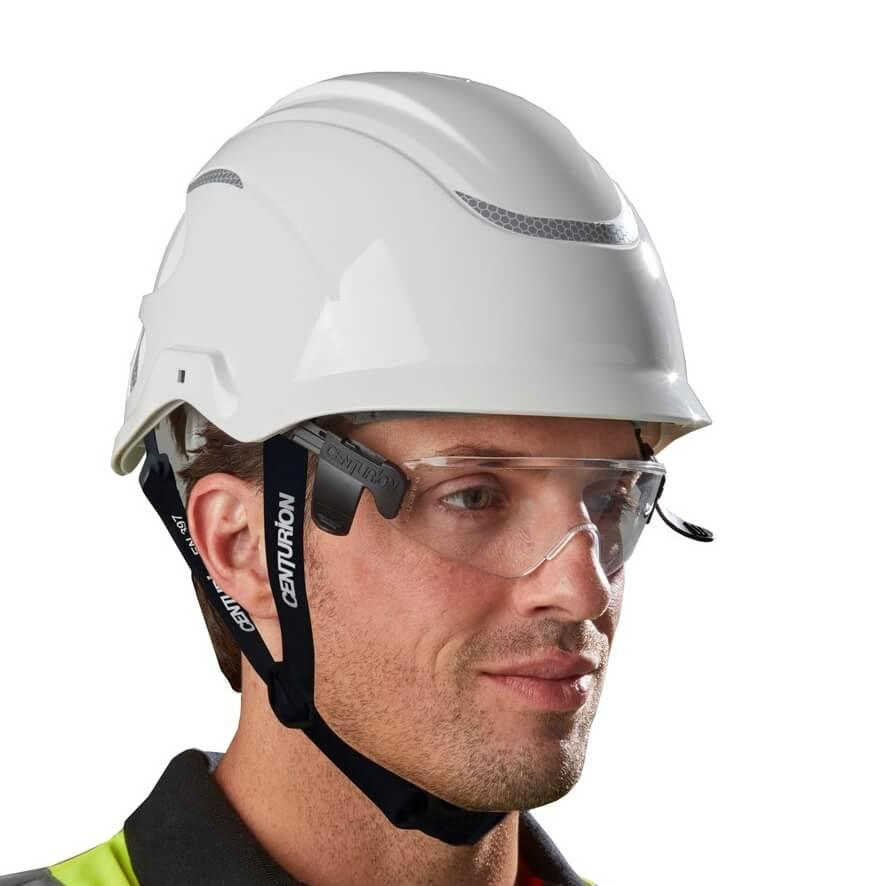helmet: (115, 70, 715, 445)
